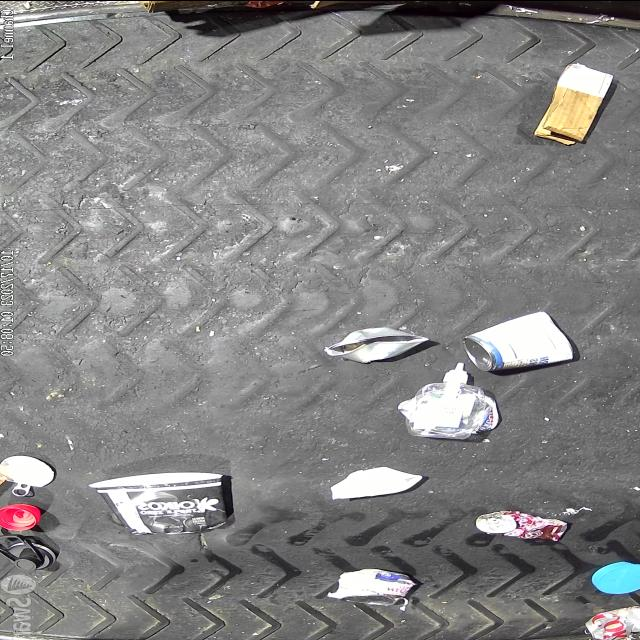can: (460, 309, 576, 372), (324, 326, 429, 362), (475, 509, 569, 542), (334, 568, 414, 604), (582, 605, 640, 640)
